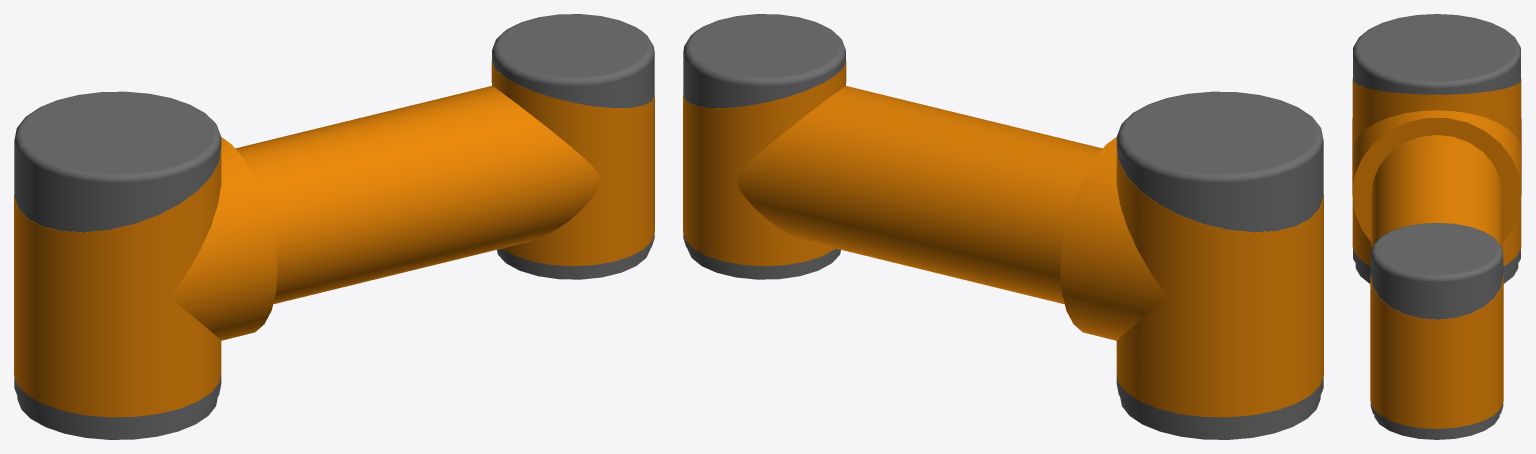
3 renders of one model, left to right at view 1: azimuth 30°, elevation 25°; view 2: azimuth 150°, elevation 25°; view 3: azimuth 270°, elevation 25°, orthographic. The views are drawn at different scales.
Visible parts, largest first — view 1: NONE; view 2: NONE; view 3: NONE.
Boxes of the visible parts, x1,y1,x2,y2 form: NONE: (14,14,654,439); NONE: (683,14,1323,439); NONE: (1352,14,1521,439).
Size of the model in its own units: 0.514 by 0.15 by 0.211.
